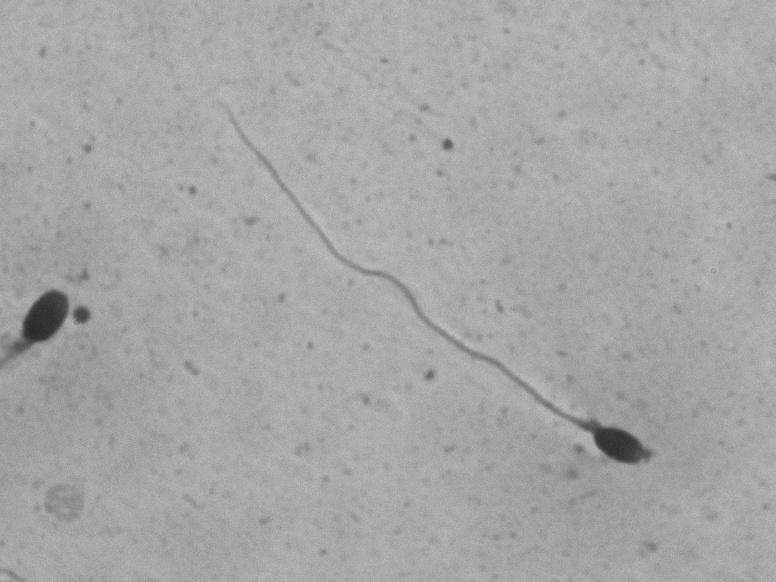Abnormal: (195, 61, 669, 489)
